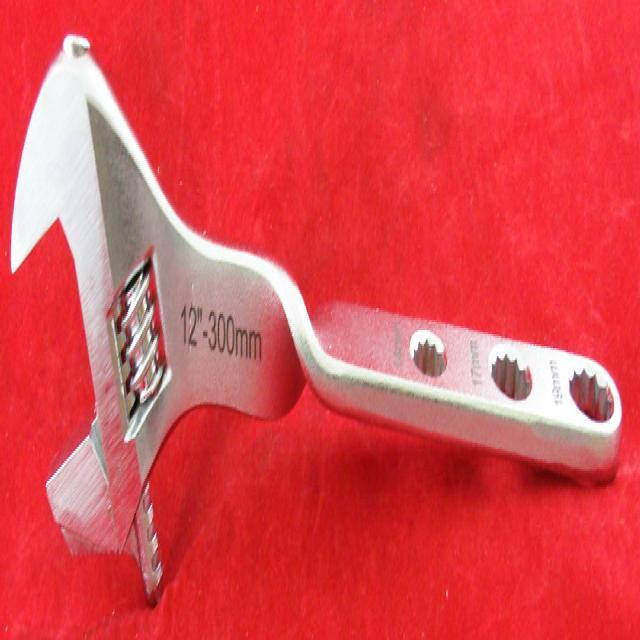wrench: (6, 16, 626, 618)
